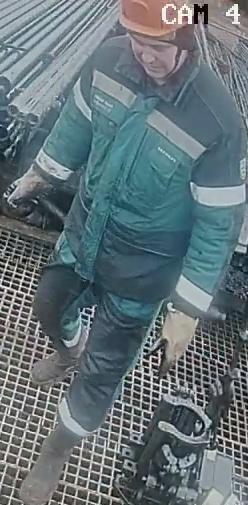gloves: (143, 291, 201, 379), (5, 157, 58, 221)
helmet: (117, 0, 195, 37)
vest: (61, 39, 230, 303)
